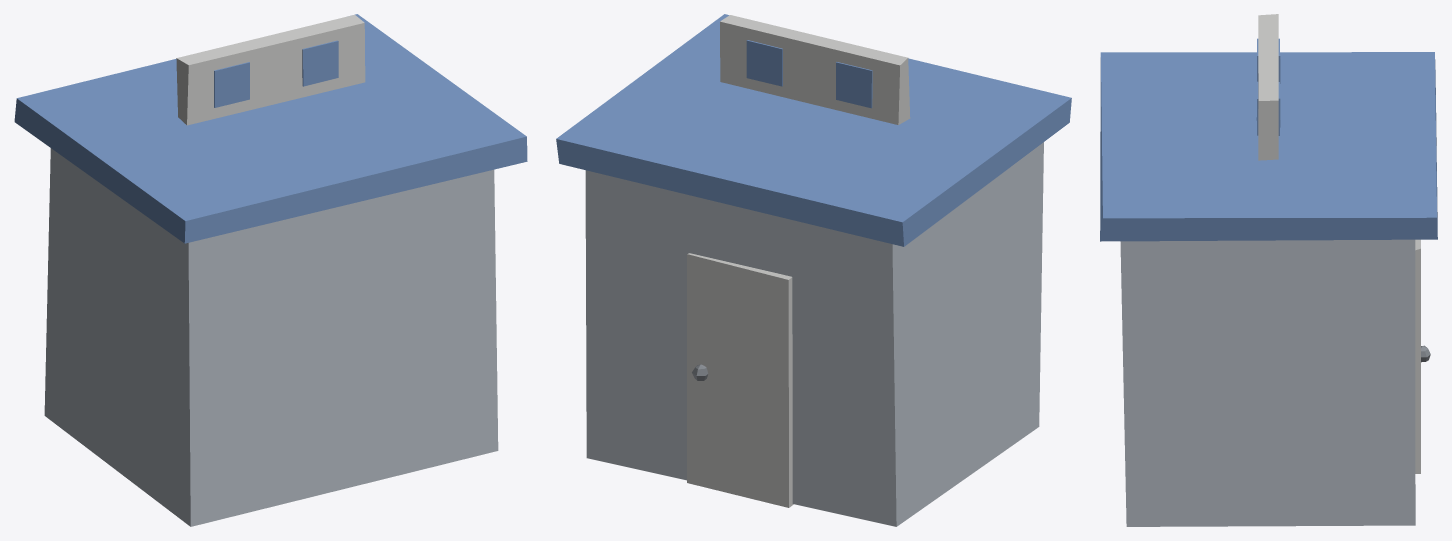
The model's file is bathroom.fbx.
3 views of the same model, side by side, from view 1: azimuth 30°, elevation 25°; view 2: azimuth 150°, elevation 25°; view 3: azimuth 270°, elevation 25° (orthographic).
Parts seen in each view (by area): view 1: Bathroom; view 2: Bathroom; view 3: Bathroom.
Boxes of the visible parts, box(x1,y1,x2,y2) form: Bathroom: box(14, 14, 527, 526); Bathroom: box(556, 14, 1071, 526); Bathroom: box(1100, 14, 1437, 526).
Bounding box in the file's own units: 2.73 × 3.01 × 2.33.
